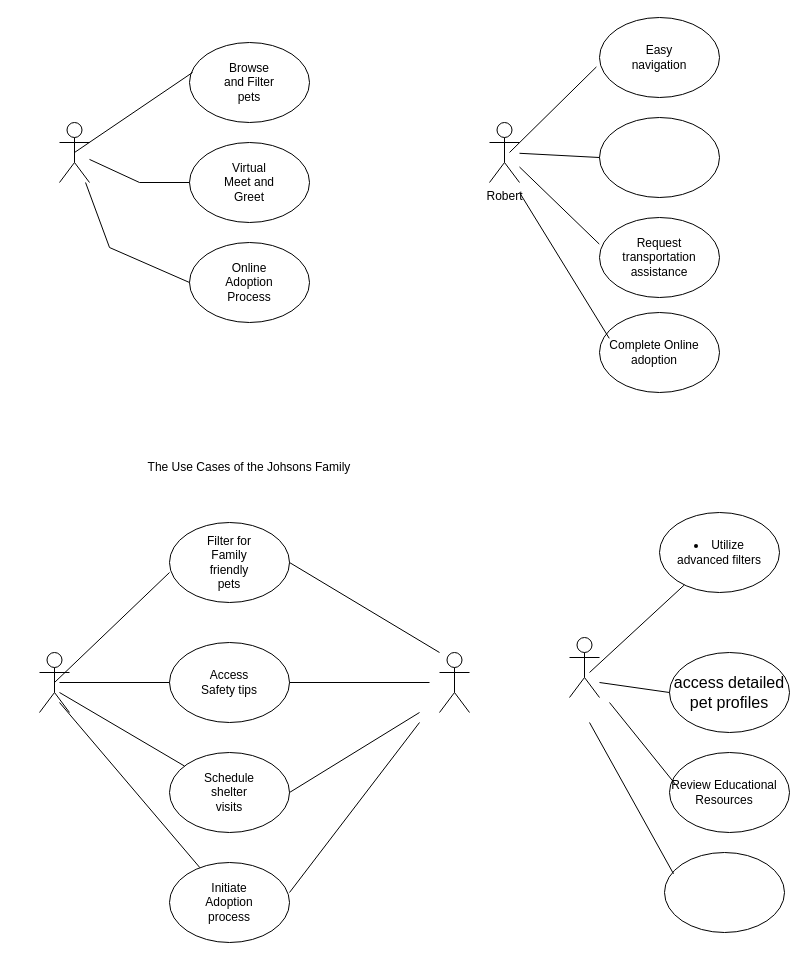
This 807x960 diagram has some shape labels left out. The centre of each missing label's shape, as x and y in pixels:
"Emily" goes at (74,152).
"Initiate efficient adoption process" goes at (724,892).
"Lisa Johnson" goes at (454,682).
"Mark Johnson" goes at (54,682).
"Sam" goes at (584,667).
"Select Senior, low-energy pets" goes at (659,157).
